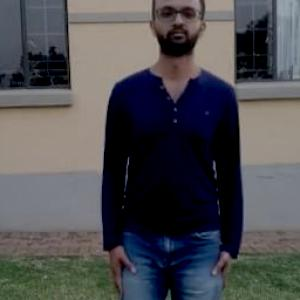follow: (101, 0, 246, 299)
